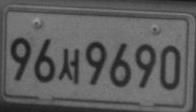0: (159, 43, 181, 90)
6: (32, 38, 56, 83), (109, 42, 131, 88)
9: (133, 42, 157, 89), (9, 36, 31, 81), (85, 41, 107, 86)
서: (57, 47, 79, 85)
